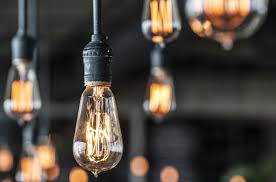bulb: (54, 62, 134, 177), (3, 46, 55, 124)
